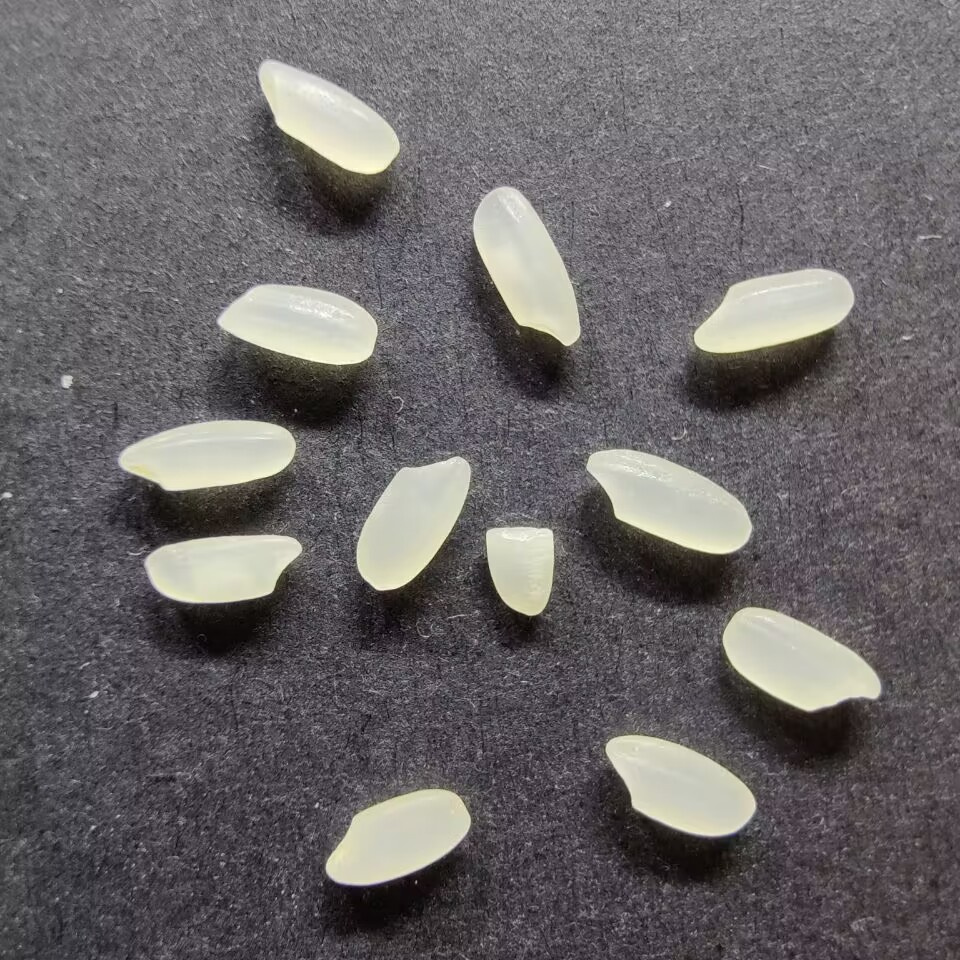broken: (483, 525, 558, 617)
rice: (470, 184, 583, 348), (585, 448, 753, 554), (721, 607, 884, 713), (257, 57, 400, 176), (353, 454, 472, 592), (603, 734, 759, 838), (323, 787, 471, 887), (688, 267, 856, 354), (215, 282, 380, 366), (115, 418, 296, 492), (142, 533, 302, 605)
